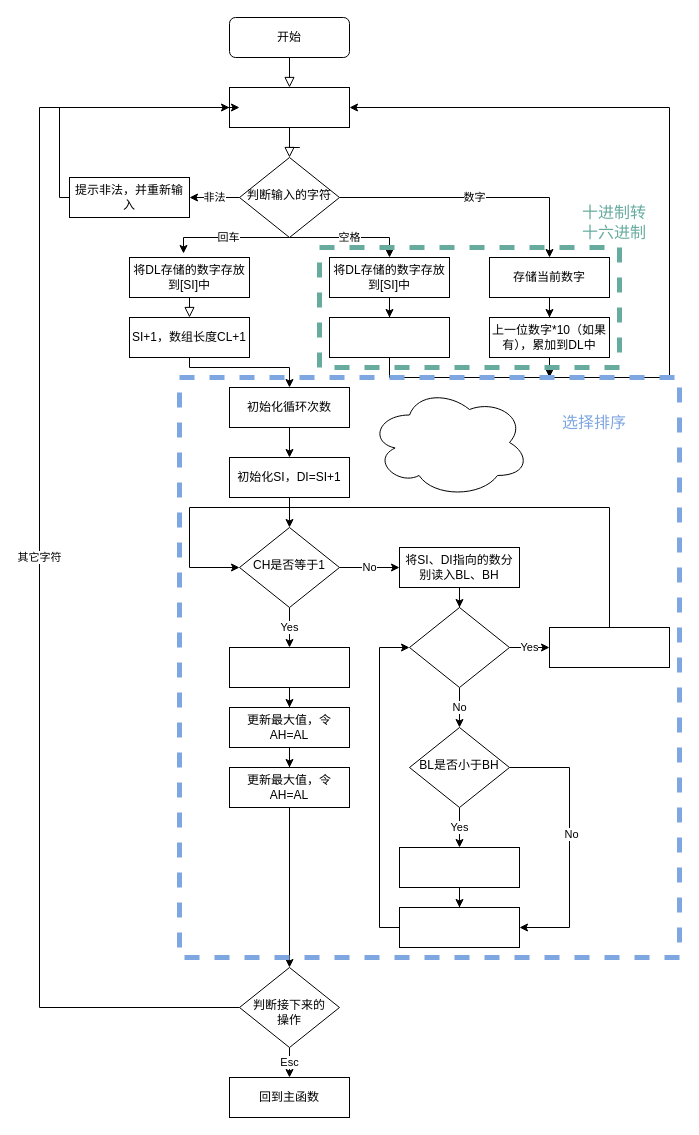
Image size: 699x1135. Some labels were removed from this diagram. Here are the shapes that lost their labels. From the top down, the centre of each, then its label:
the point at 289,107: 获取输入
the point at 389,337: 清空DL，SI+1，数组长度CL+1
the point at 449,442: CH记录外循环次数 CL记录内循环次数 [SI]表示i位 [DI]表示i+1、i+2...位
the point at 289,667: 令SI指向下一个字符，并读入AL
the point at 459,647: CL是否等于1
the point at 609,647: CH=CH-1 DI=DI+1
the point at 459,867: BL、BH互换
the point at 459,927: CL=CL-1
